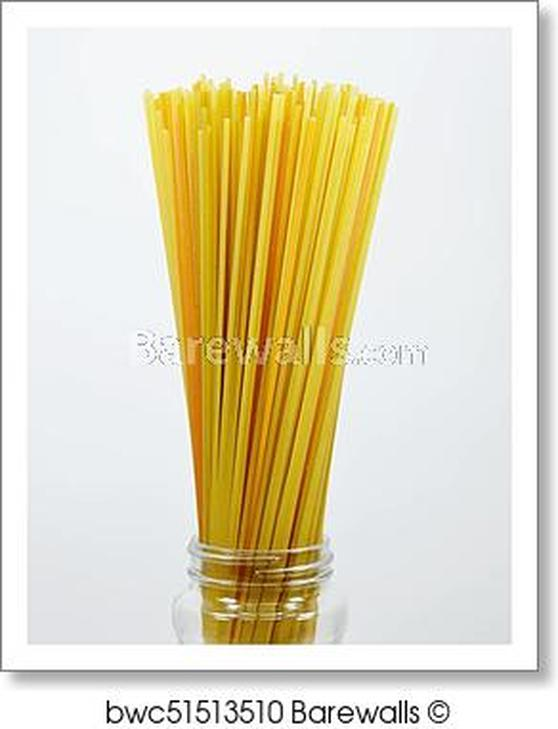spaghetti: (134, 80, 403, 546)
